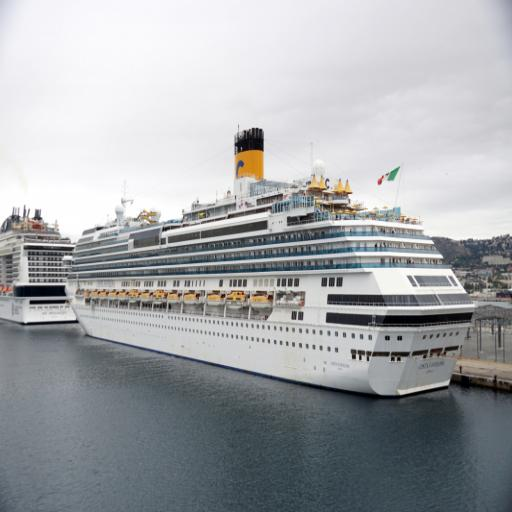cruises: (63, 126, 481, 410)
